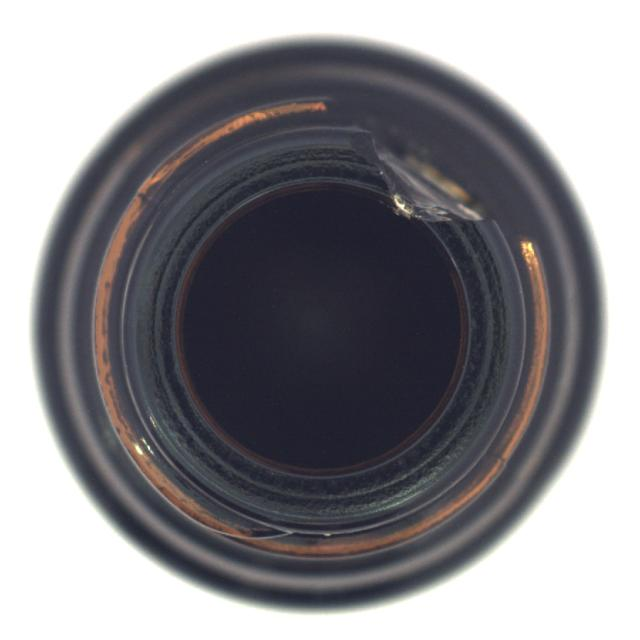bad-broken_small: (30, 33, 609, 613)
